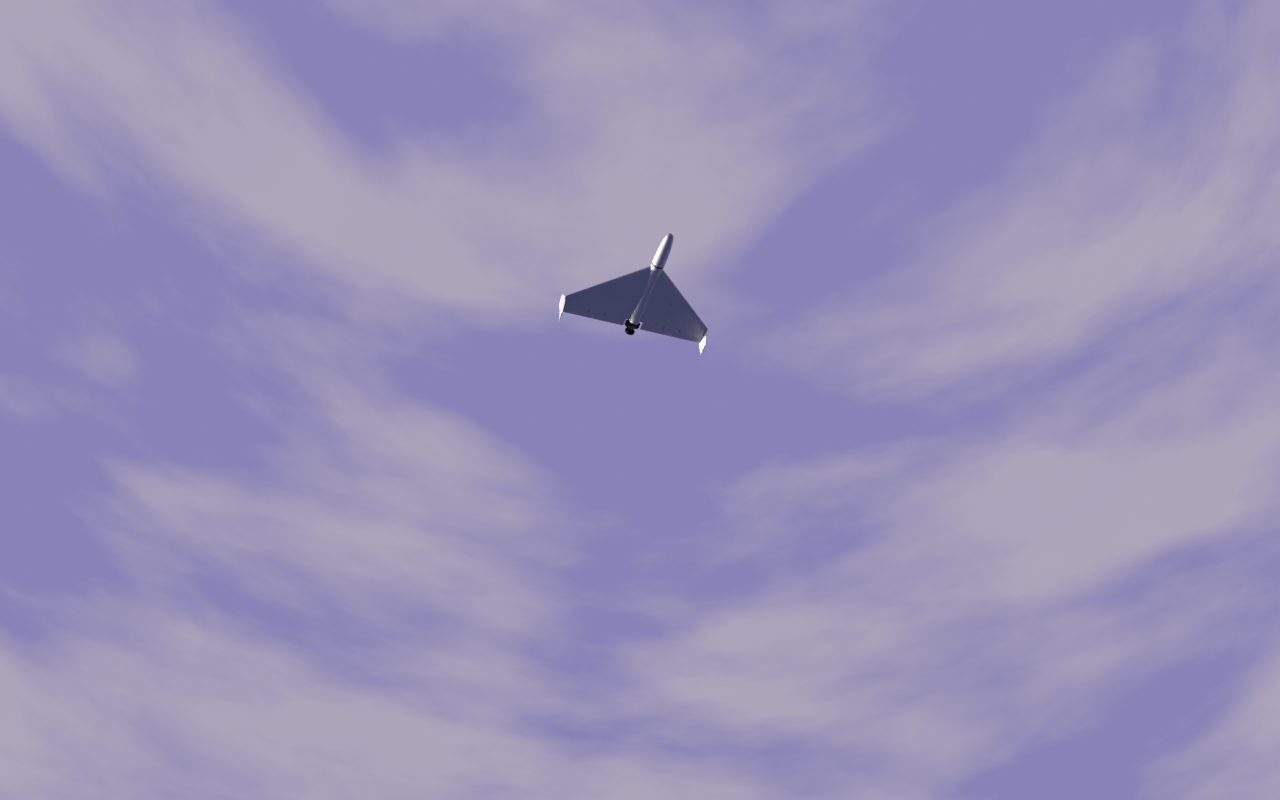shahed: (559, 233, 710, 356)
